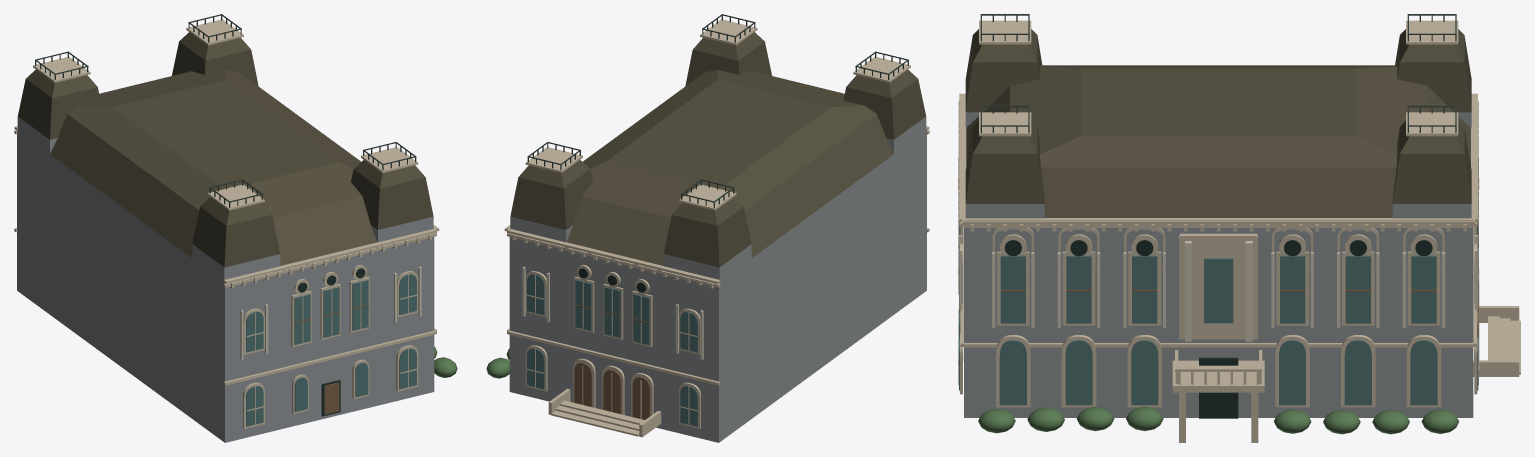
Rendered from villard-hall-mansard-exterior-2026-11-04.glb.
3 views of the same model, side by side, from view 1: azimuth 30°, elevation 25°; view 2: azimuth 150°, elevation 25°; view 3: azimuth 270°, elevation 25° (orthographic). The views are drawn at different scales.
Parts seen in each view (by area): view 1: villard-part-0, villard-part-1; view 2: villard-part-0, villard-part-1; view 3: villard-part-0, villard-part-1.
Boxes of the visible parts, x1=… form: villard-part-0: x1=14, y1=14, x2=439, y2=442; villard-part-1: x1=434, y1=346, x2=457, y2=377; villard-part-0: x1=504, y1=14, x2=929, y2=442; villard-part-1: x1=486, y1=348, x2=509, y2=378; villard-part-0: x1=958, y1=14, x2=1520, y2=442; villard-part-1: x1=978, y1=406, x2=1459, y2=434.
Size of the model in its own units: 21.75 by 19.26 by 34.26.
